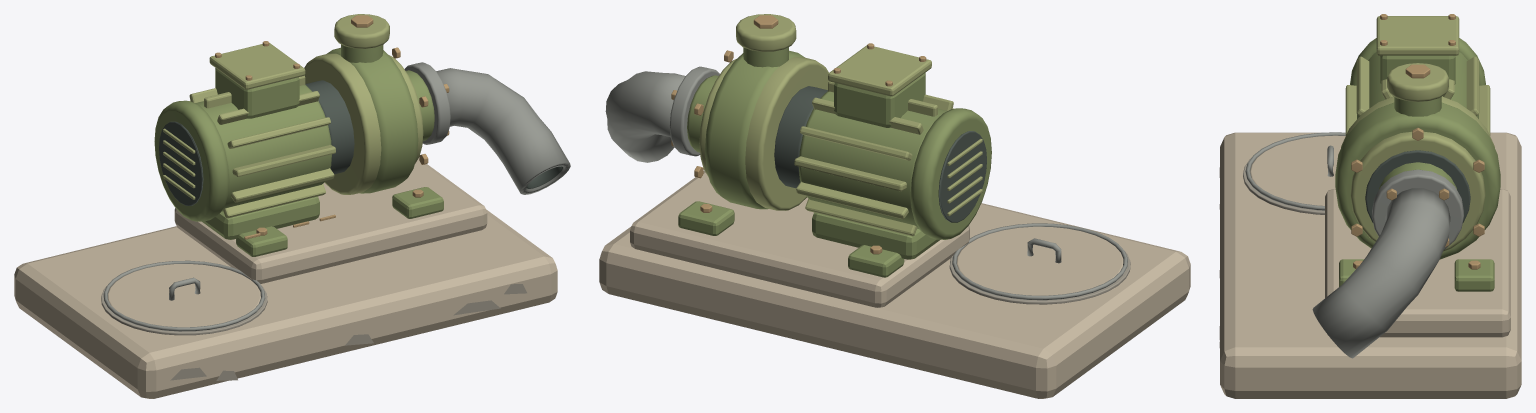
File: farm-well.glb
3 renders of one model, left to right at view 1: azimuth 30°, elevation 25°; view 2: azimuth 150°, elevation 25°; view 3: azimuth 270°, elevation 25°, orthographic. The views are drawn at different scales.
Parts seen in each view (by area): view 1: farm-well; view 2: farm-well; view 3: farm-well.
Boxes of the visible parts, bbox=[...] form: farm-well: bbox=[14, 14, 570, 398]; farm-well: bbox=[599, 14, 1190, 398]; farm-well: bbox=[1219, 14, 1521, 398].
Bounding box in the file's own units: 2.6 × 1.29 × 1.28.
